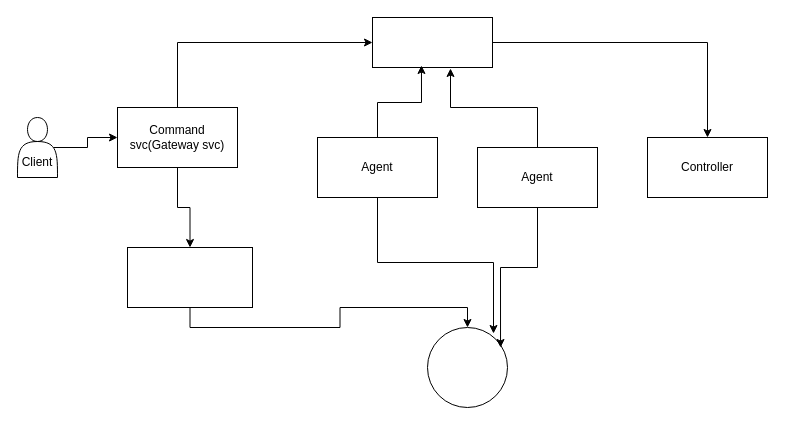
The diagram is 785 pixels wide and 425 high, and some of its shapes have lost their labels. Here are the shapes that lost their labels. From the top down, the centre of each, then its label:
At [432,42]: "RabbitMQ".
At [189,277]: "Scheduler svc".
At [467,367]: "SQLite DB".
